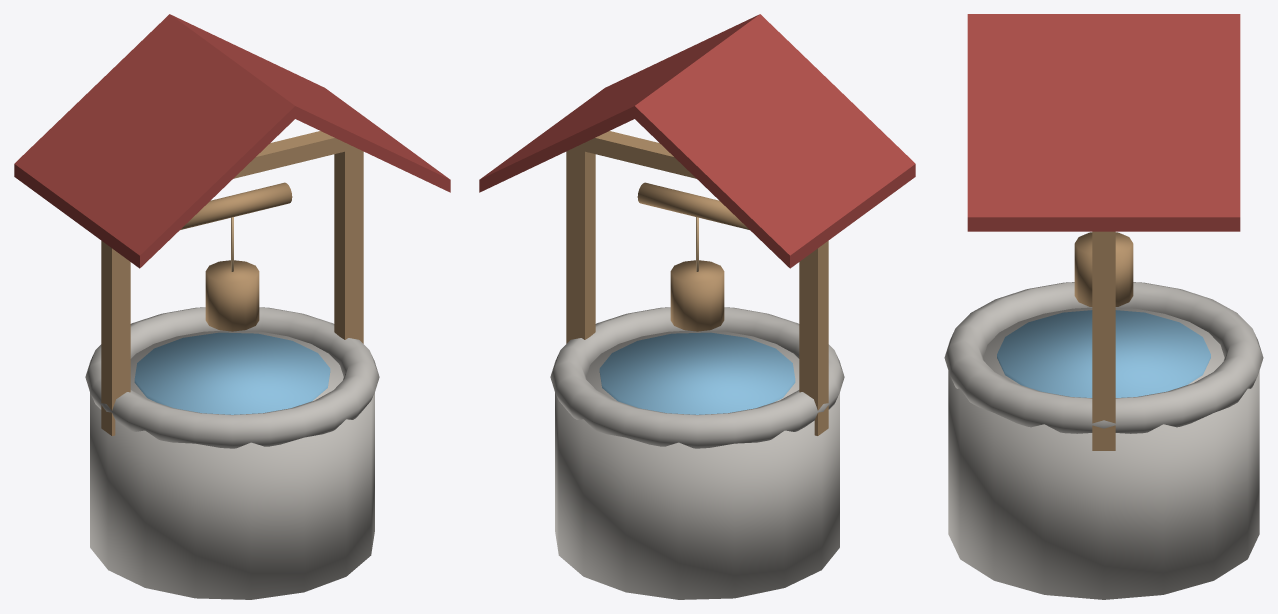
File: world_well.glb
The picture shows the model from 3 angles, left to right: view 1: azimuth 30°, elevation 25°; view 2: azimuth 150°, elevation 25°; view 3: azimuth 270°, elevation 25°; orthographic projection. The views are drawn at different scales.
Visible parts, largest first — view 1: world_well; view 2: world_well; view 3: world_well.
Boxes of the visible parts, left/top/right/bottom form: world_well: left=14, top=14, right=450, bottom=599; world_well: left=479, top=14, right=915, bottom=599; world_well: left=944, top=14, right=1263, bottom=599.
Size of the model in its own units: 2 by 2.95 by 1.64.
